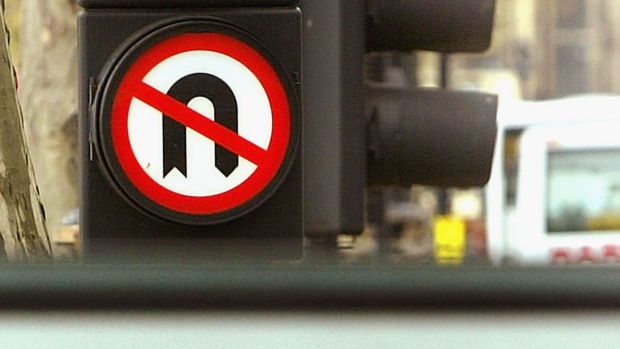No_u_turn: (106, 29, 293, 216)
